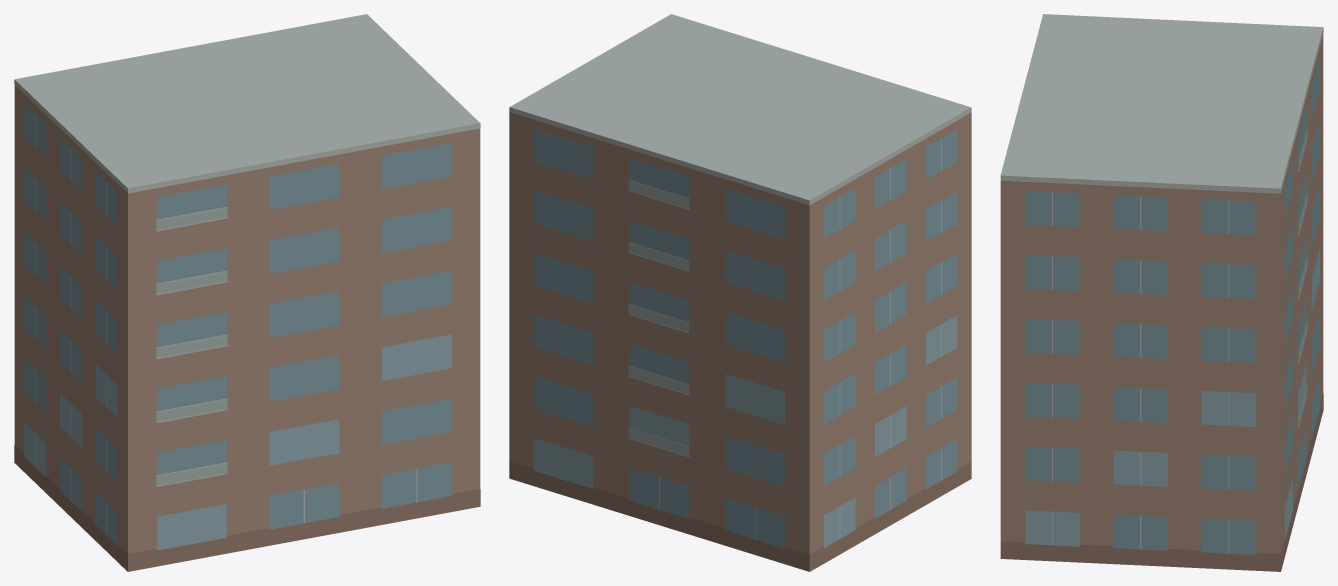
Rendered from survey-upis-32984314.glb.
3 renders of one model, left to right at view 1: azimuth 30°, elevation 25°; view 2: azimuth 150°, elevation 25°; view 3: azimuth 270°, elevation 25°, orthographic. The views are drawn at different scales.
Visible parts, largest first — view 1: survey-upis-32984314.tmp; view 2: survey-upis-32984314.tmp; view 3: survey-upis-32984314.tmp.
Part boxes in pixels (bbox=[...]): survey-upis-32984314.tmp: bbox=[14, 14, 480, 571]; survey-upis-32984314.tmp: bbox=[509, 14, 971, 571]; survey-upis-32984314.tmp: bbox=[1000, 14, 1323, 571].
Bounding box in the file's own units: 17.89 × 18.3 × 13.99.
